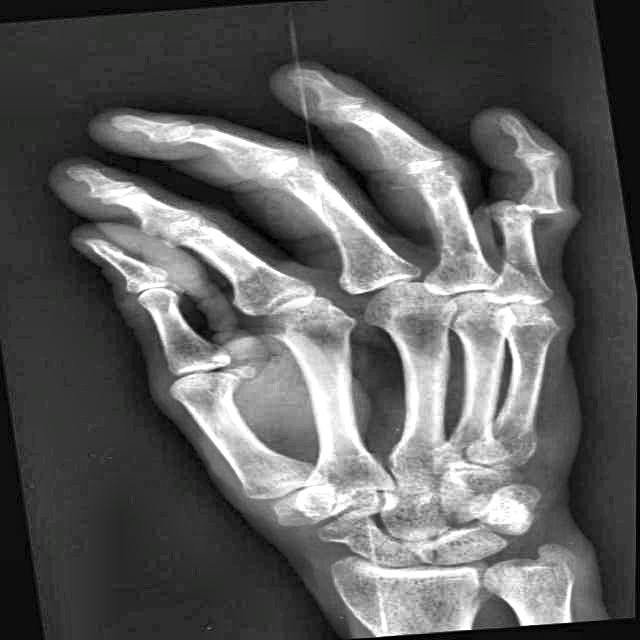Transverse: (487, 176, 592, 232)
